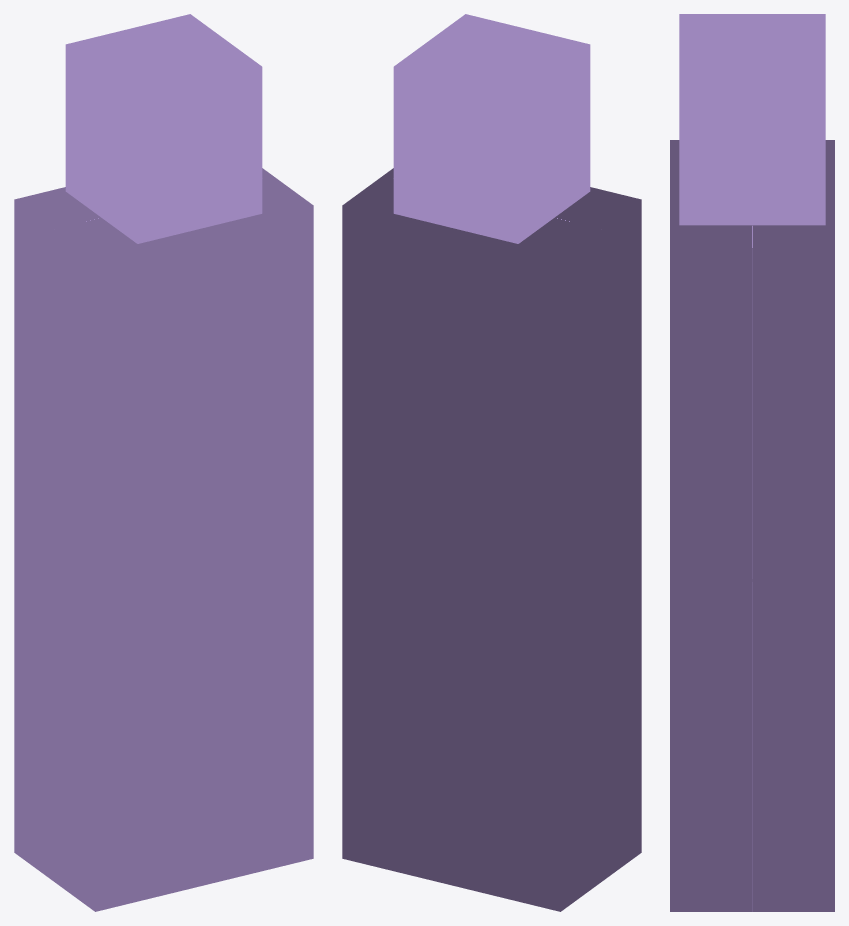
3 views of the same model, side by side, from view 1: azimuth 30°, elevation 25°; view 2: azimuth 150°, elevation 25°; view 3: azimuth 270°, elevation 25° (orthographic).
Visible parts, largest first — view 1: Root; view 2: Root; view 3: Root.
Part boxes in pixels (x1,y1,x2,y2): Root: (14, 14, 313, 911); Root: (342, 14, 641, 911); Root: (670, 14, 834, 911).
Bounding box in the file's own units: 0.56 × 1.96 × 0.36.
